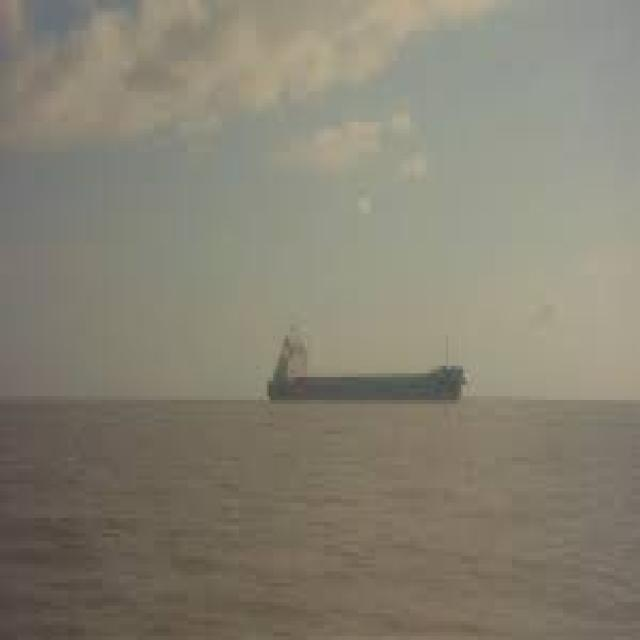cargoship: (266, 329, 464, 403)
